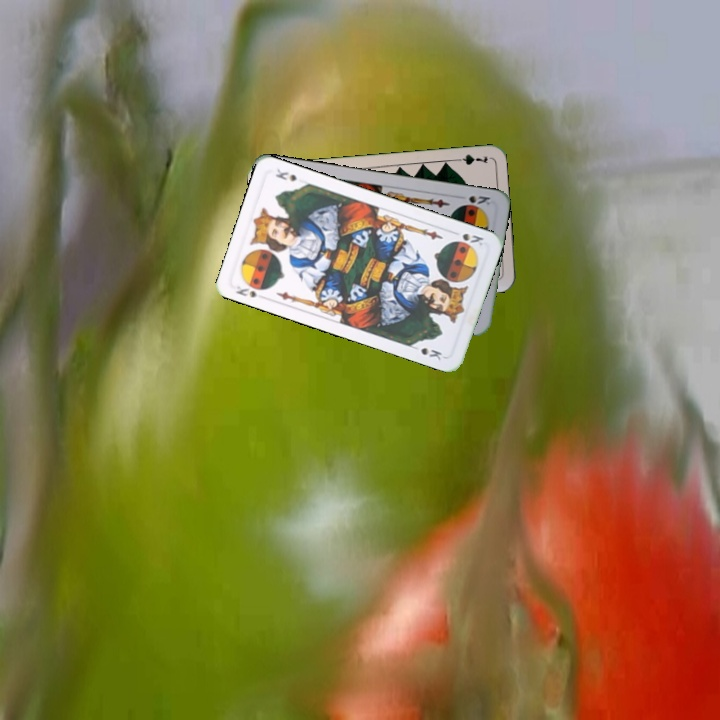G7: (450, 150, 490, 167)
SK: (448, 227, 486, 248), (230, 281, 260, 300), (465, 191, 494, 208)
